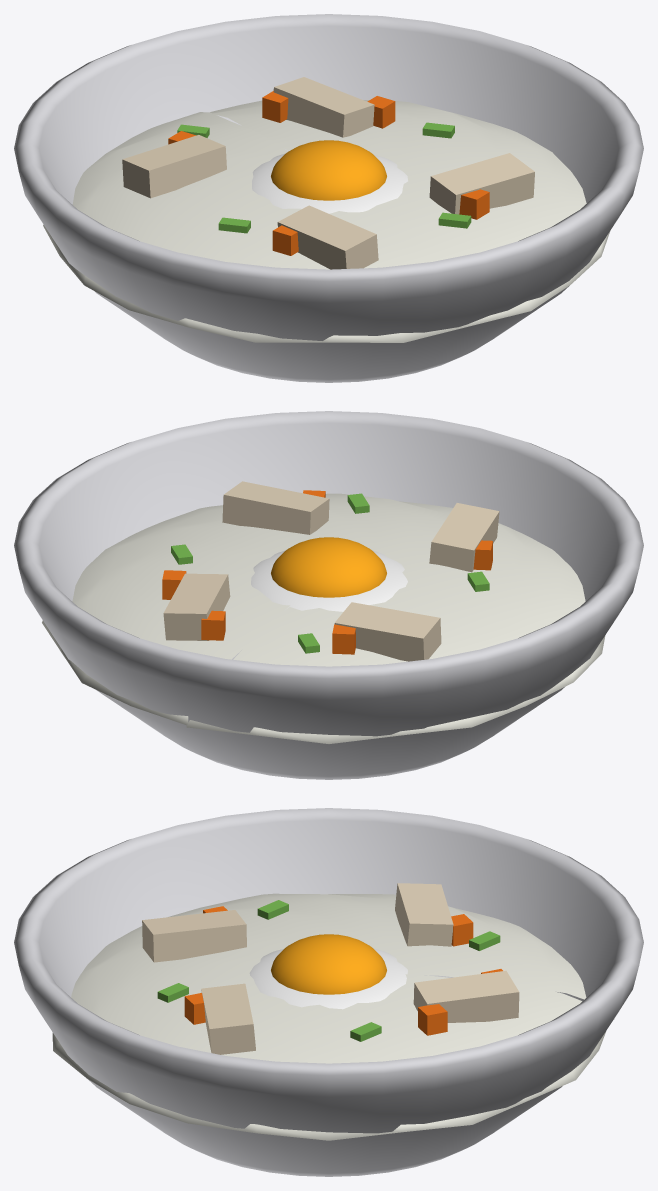
The model's file is Dish_01_ChickenPorridge.obj.
The picture shows the model from 3 angles, top to bottom: view 1: azimuth 30°, elevation 25°; view 2: azimuth 150°, elevation 25°; view 3: azimuth 270°, elevation 25°; orthographic projection.
Parts seen in each view (by area): view 1: Mat_FoodPlate, Mat_RicePorridge, Mat_CookedChicken, Mat_EggYolk, Mat_EggWhite, Mat_Carrot, Mat_Vegetables; view 2: Mat_FoodPlate, Mat_RicePorridge, Mat_CookedChicken, Mat_EggYolk, Mat_EggWhite, Mat_Carrot, Mat_Vegetables; view 3: Mat_FoodPlate, Mat_RicePorridge, Mat_CookedChicken, Mat_EggYolk, Mat_EggWhite, Mat_Carrot, Mat_Vegetables.
Boxes of the visible parts, x1=… form: Mat_FoodPlate: x1=14, y1=14, x2=643, y2=382; Mat_RicePorridge: x1=43, y1=100, x2=610, y2=342; Mat_CookedChicken: x1=122, y1=77, x2=534, y2=269; Mat_EggYolk: x1=271, y1=140, x2=386, y2=200; Mat_EggWhite: x1=252, y1=153, x2=407, y2=213; Mat_Carrot: x1=168, y1=91, x2=489, y2=255; Mat_Vegetables: x1=177, y1=122, x2=471, y2=233; Mat_FoodPlate: x1=14, y1=411, x2=643, y2=779; Mat_RicePorridge: x1=42, y1=493, x2=605, y2=743; Mat_CookedChicken: x1=163, y1=481, x2=499, y2=661; Mat_EggYolk: x1=271, y1=537, x2=386, y2=597; Mat_EggWhite: x1=251, y1=550, x2=407, y2=611; Mat_Carrot: x1=162, y1=490, x2=492, y2=654; Mat_Vegetables: x1=171, y1=493, x2=489, y2=653; Mat_FoodPlate: x1=14, y1=808, x2=643, y2=1176; Mat_RicePorridge: x1=52, y1=893, x2=614, y2=1140; Mat_CookedChicken: x1=142, y1=883, x2=519, y2=1054; Mat_EggYolk: x1=271, y1=934, x2=386, y2=994; Mat_EggWhite: x1=249, y1=948, x2=407, y2=1009; Mat_Carrot: x1=184, y1=906, x2=502, y2=1035; Mat_Vegetables: x1=157, y1=900, x2=500, y2=1041.
Size of the model in its own units: 0.17 by 0.05 by 0.17.
